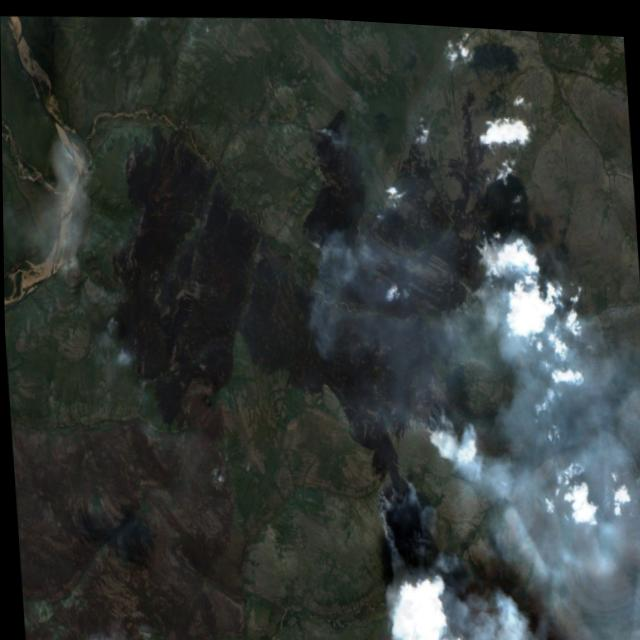fire: (367, 456, 416, 527), (305, 221, 326, 255), (455, 268, 470, 296), (309, 120, 326, 136)
